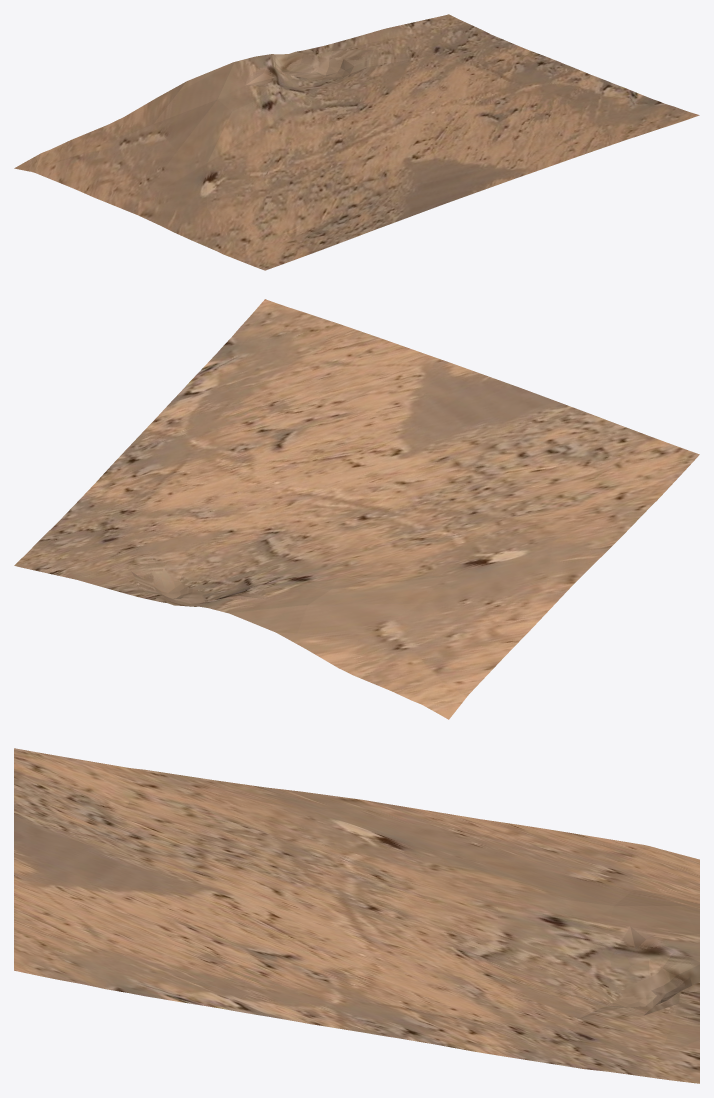
3 renders of one model, top to bottom at view 1: azimuth 30°, elevation 25°; view 2: azimuth 150°, elevation 25°; view 3: azimuth 270°, elevation 25°, orthographic. The views are drawn at different scales.
Size of the model in its own units: 1.04 by 0.3004 by 1.04.
Materials: 2 (2 with a texture image).
